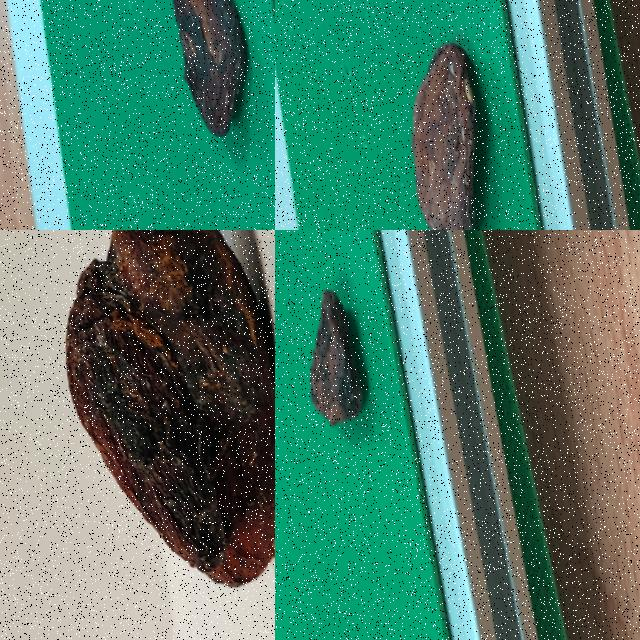Agglomerated_cocoabeans: (0, 230, 274, 619)
Flat_cocoabeans: (275, 230, 421, 517), (357, 0, 535, 229), (113, 0, 274, 229)
